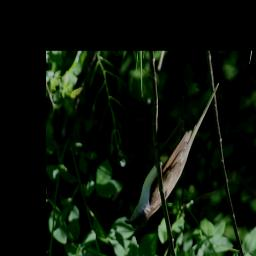Cuckoo: (125, 80, 221, 231)
